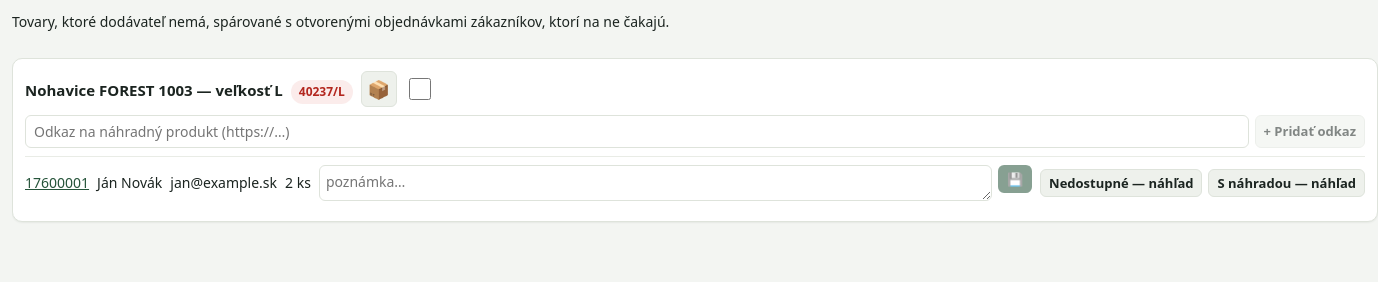
Test: zlyhaný zápis vráti checkbox späť a zobrazí hlášku
Click the checkbox with test id "nedostupne-resolved-checkbox-40237/L" at (420, 89), box x1=409 y1=78 x2=431 y2=100
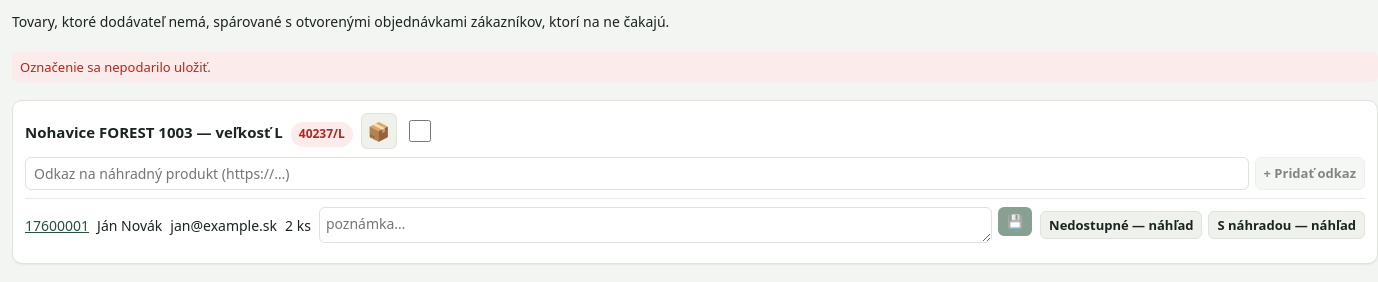
Expected: the checkbox with test id "nedostupne-resolved-checkbox-40237/L" is not checked, x1=409 y1=120 x2=431 y2=142
Now the text "Označenie sa nepodarilo uložiť." is shown, box x1=12 y1=52 x2=1377 y2=82
